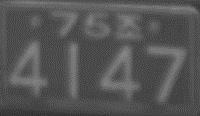1: (58, 42, 93, 99)
4: (100, 43, 142, 104), (9, 40, 48, 99)
5: (83, 10, 110, 39)
7: (146, 44, 188, 103), (51, 8, 78, 36)
조: (115, 11, 144, 40)
